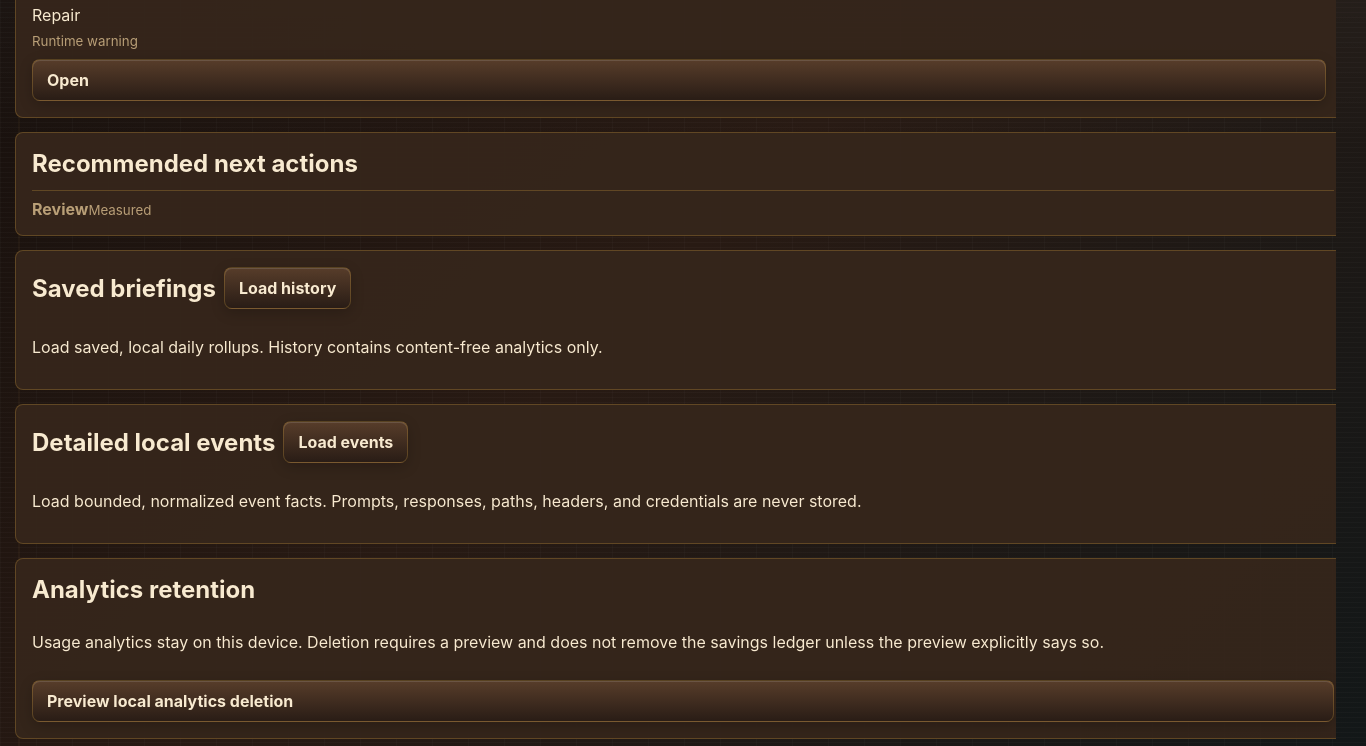
Test: DailyUsageBriefingView scenarios › previews, cancels, then clears analytics and refreshes
(page scrolled)
Click the button "Preview local analytics deletion" at (170, 701), box [32, 680, 1334, 722]
(page scrolled)
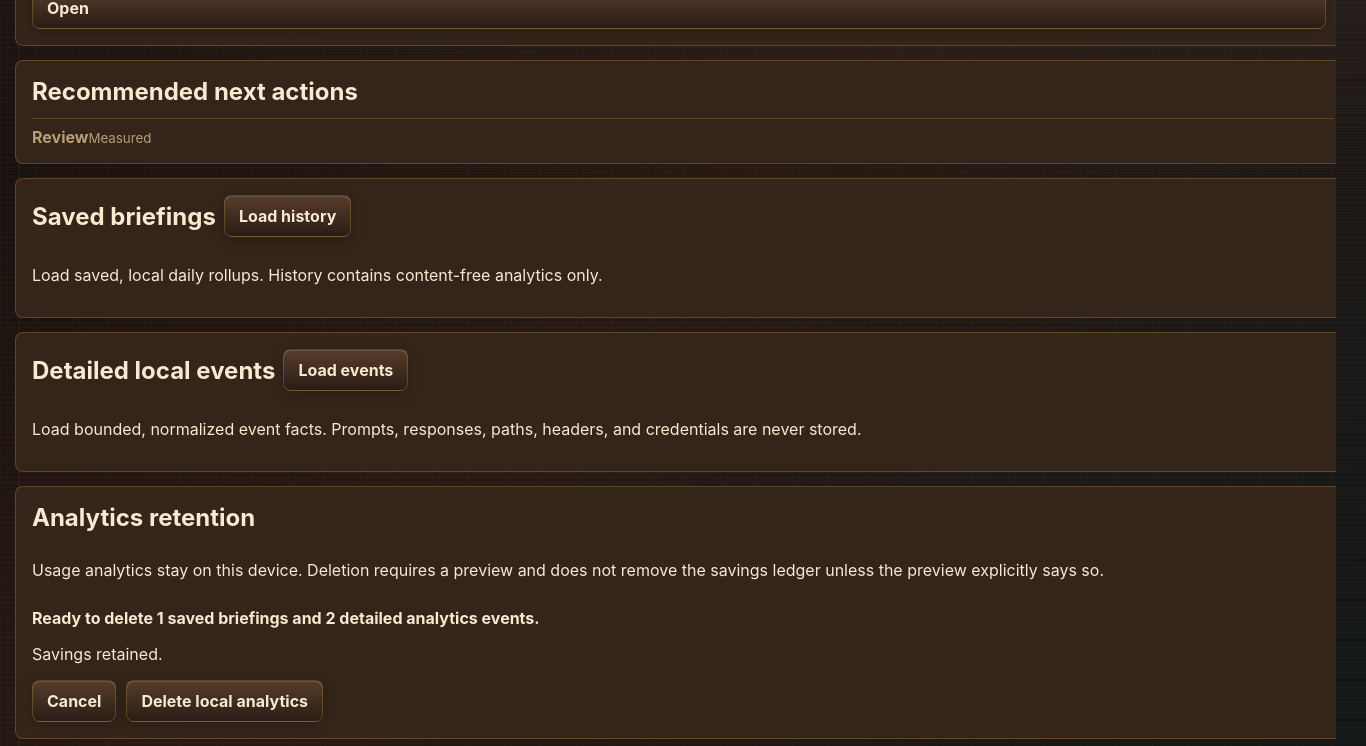
Check: the text "Ready to delete 1 saved briefings" is shown, box [32, 608, 540, 628]
Click the button "Cancel" at (74, 701), box [32, 680, 116, 722]
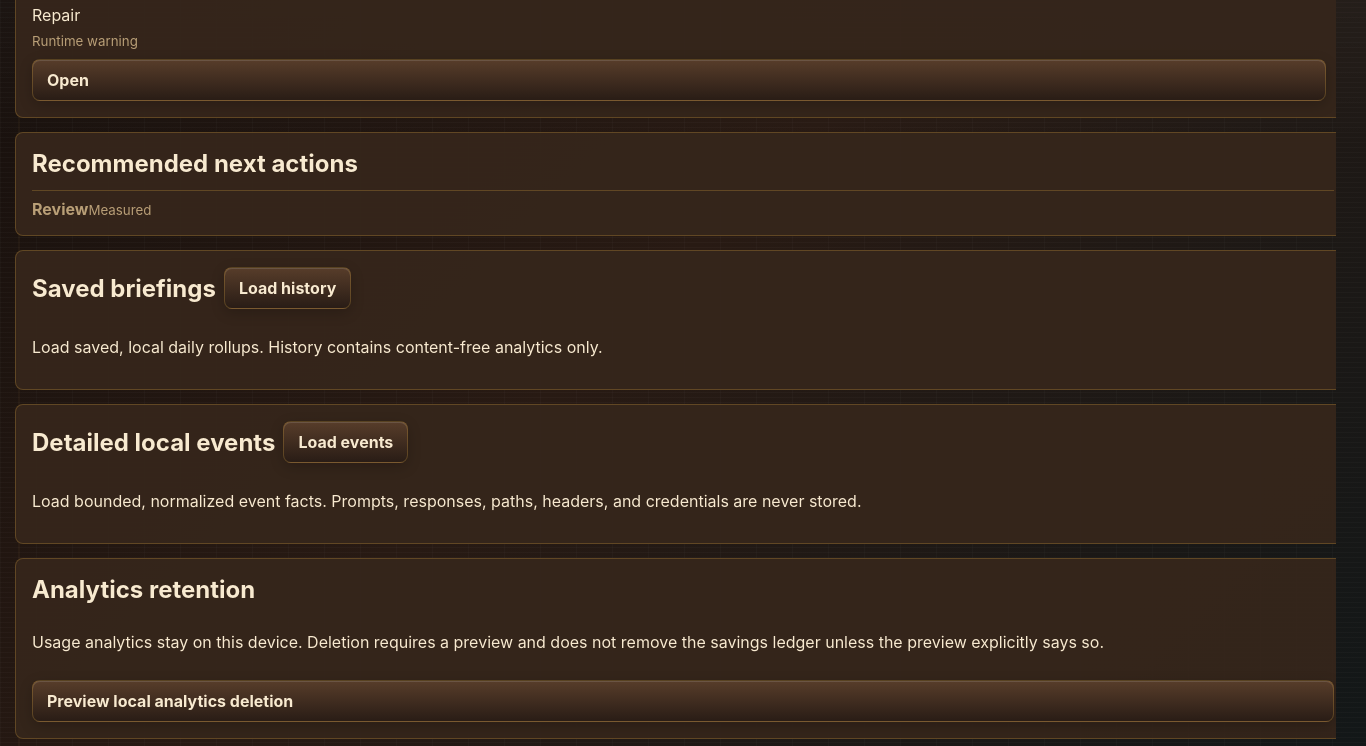
Check: the button "Delete local analytics" is gone
Click the button "Preview local analytics deletion" at (170, 701), box [32, 680, 1334, 722]
(page scrolled)
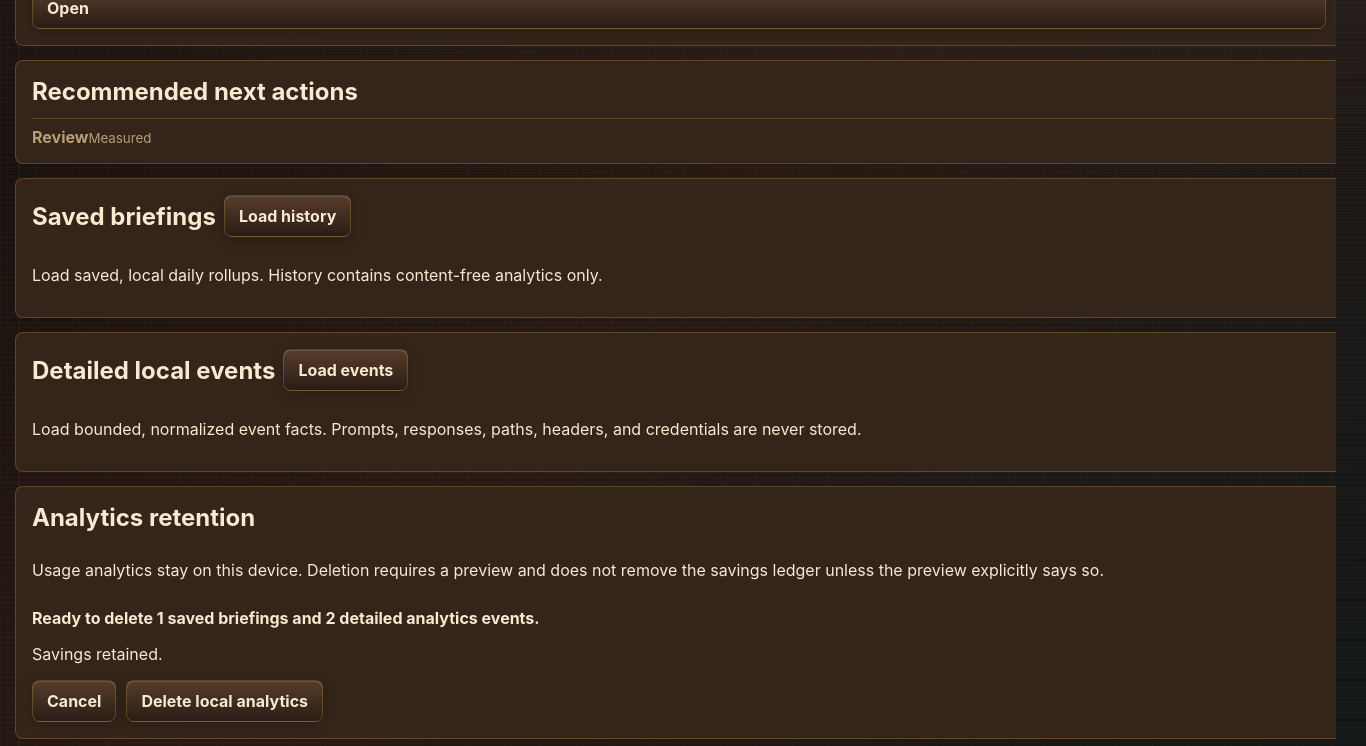
Click the button "Delete local analytics" at (225, 701), box [126, 680, 323, 722]
(page scrolled)
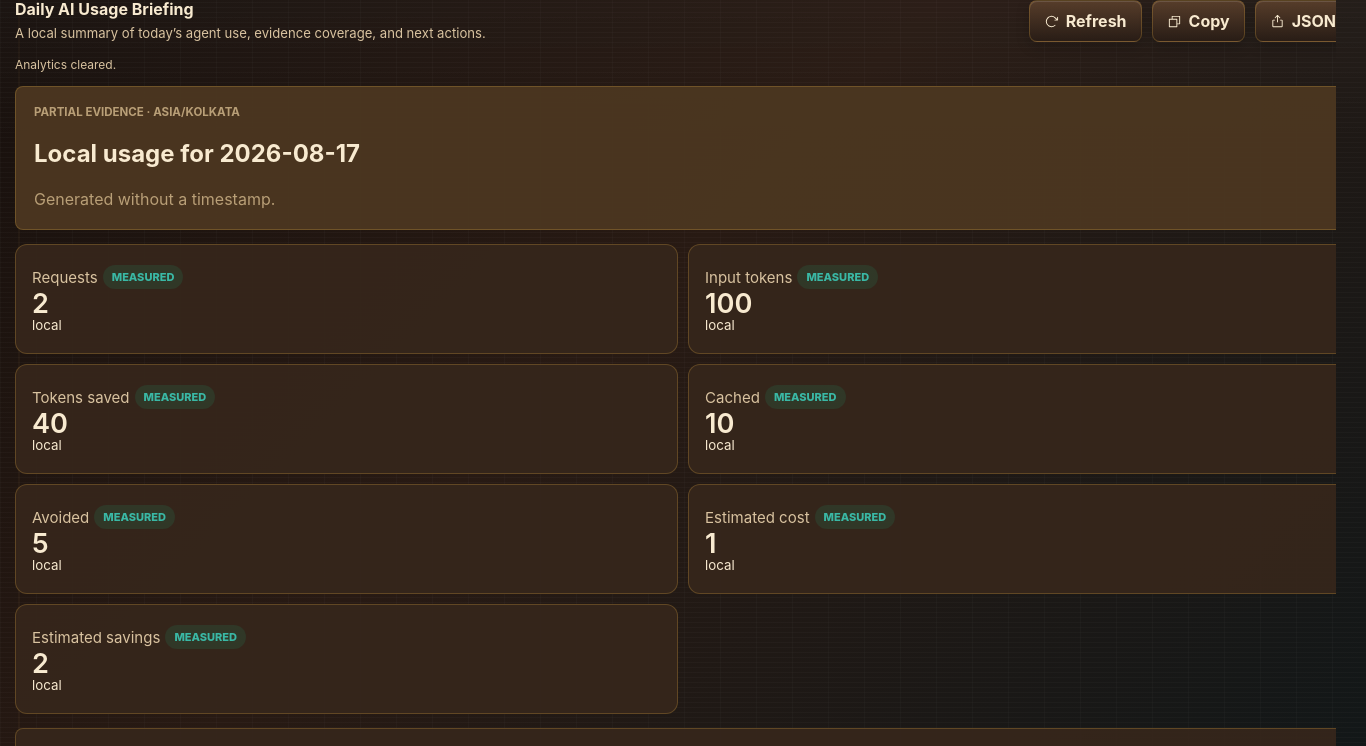
Check: the text "Analytics cleared." is shown, box [15, 57, 116, 72]
